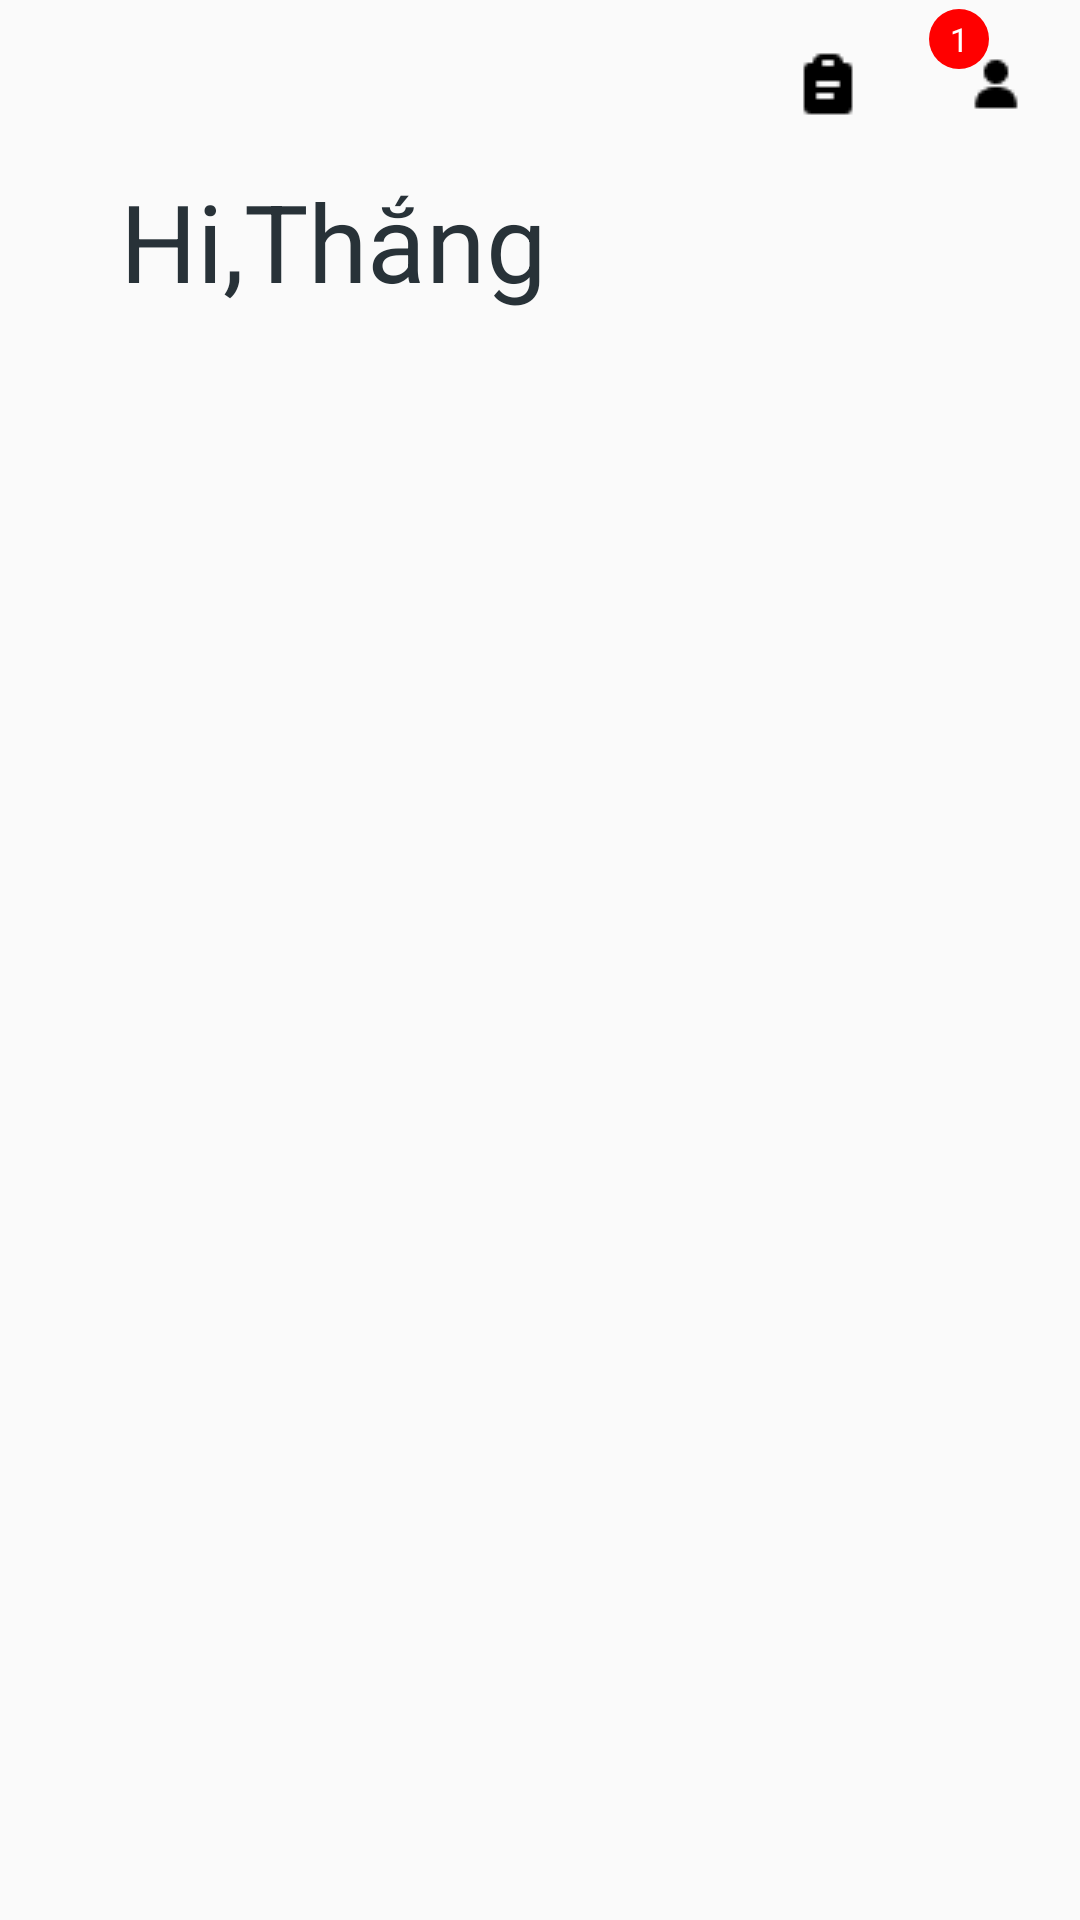

Named icons in this screenshot (1080x1920) and their bounding boxes, (x1, y1, x2, y2):
order: (803, 53, 853, 115)
user: (974, 59, 1018, 109)
